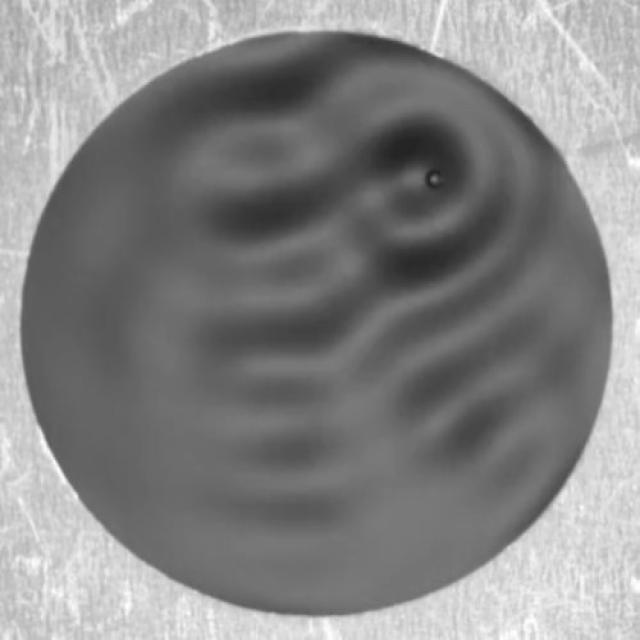droplet: (424, 166, 445, 192)
